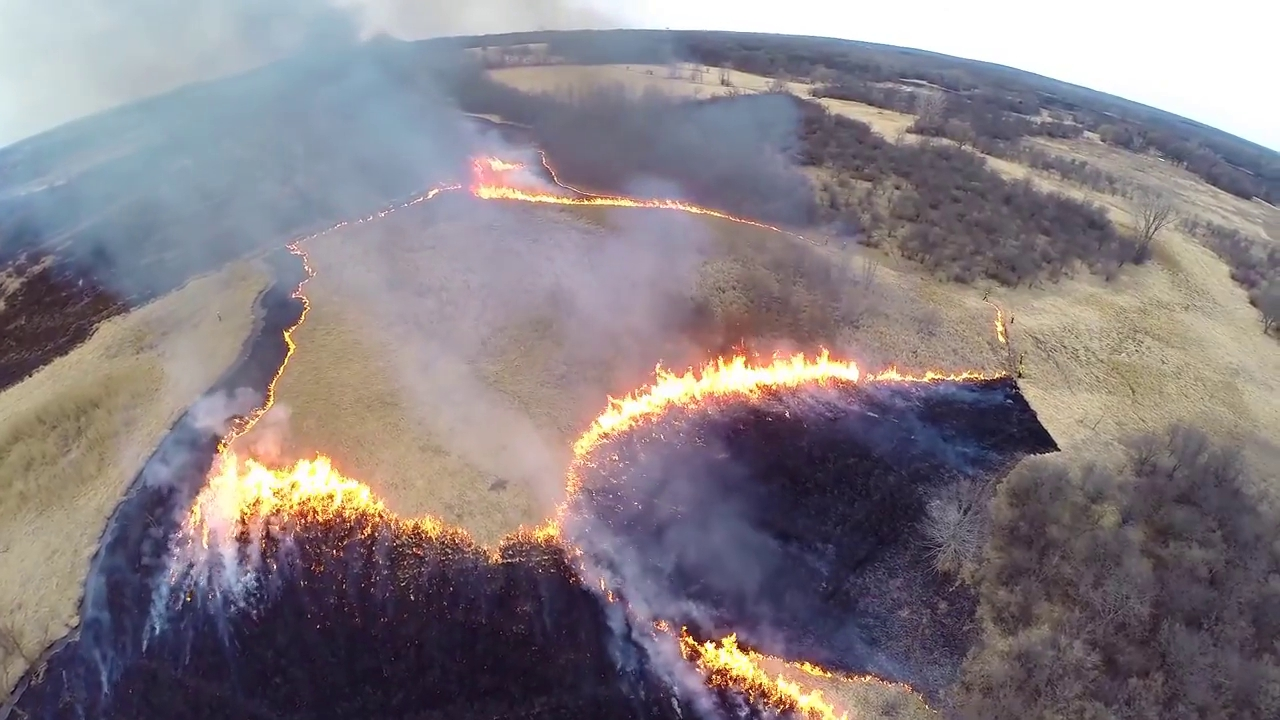forest_fire: (183, 153, 785, 548), (500, 349, 1010, 547), (656, 622, 848, 719), (982, 296, 1022, 375)
